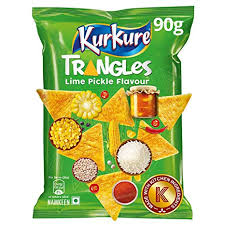kurkure: (75, 19, 151, 56)
plastic: (35, 6, 192, 219)
wrapper: (29, 9, 187, 225)
